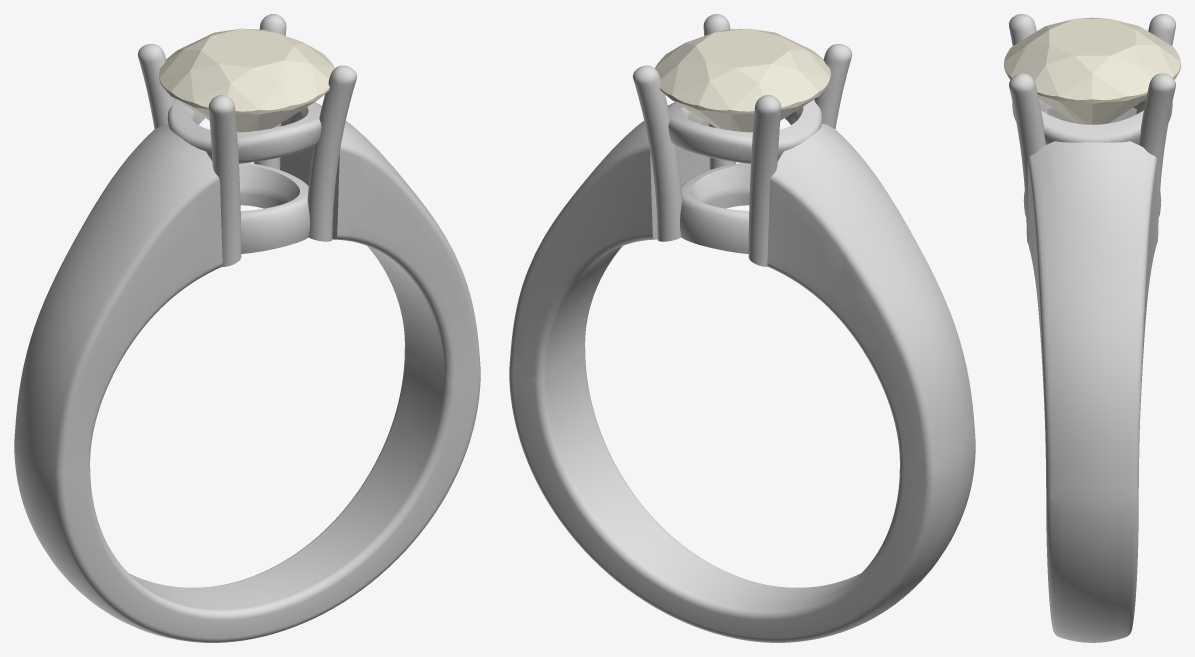
File: VictorAntoniak_v1-a bit of yellow.glb
The picture shows the model from 3 angles, left to right: view 1: azimuth 30°, elevation 25°; view 2: azimuth 150°, elevation 25°; view 3: azimuth 270°, elevation 25°; orthographic projection.
Parts seen in each view (by area): view 1: Victor PT for 3d model, Victor dia for 3d model; view 2: Victor PT for 3d model, Victor dia for 3d model; view 3: Victor PT for 3d model, Victor dia for 3d model.
Boxes of the visible parts, <box> form: Victor PT for 3d model: <box>14,14,480,642</box>; Victor dia for 3d model: <box>159,28,334,132</box>; Victor PT for 3d model: <box>509,14,975,642</box>; Victor dia for 3d model: <box>655,28,830,132</box>; Victor PT for 3d model: <box>1009,14,1175,642</box>; Victor dia for 3d model: <box>1004,17,1180,124</box>.
Size of the model in its own units: 19.08 by 24.24 by 6.68.
